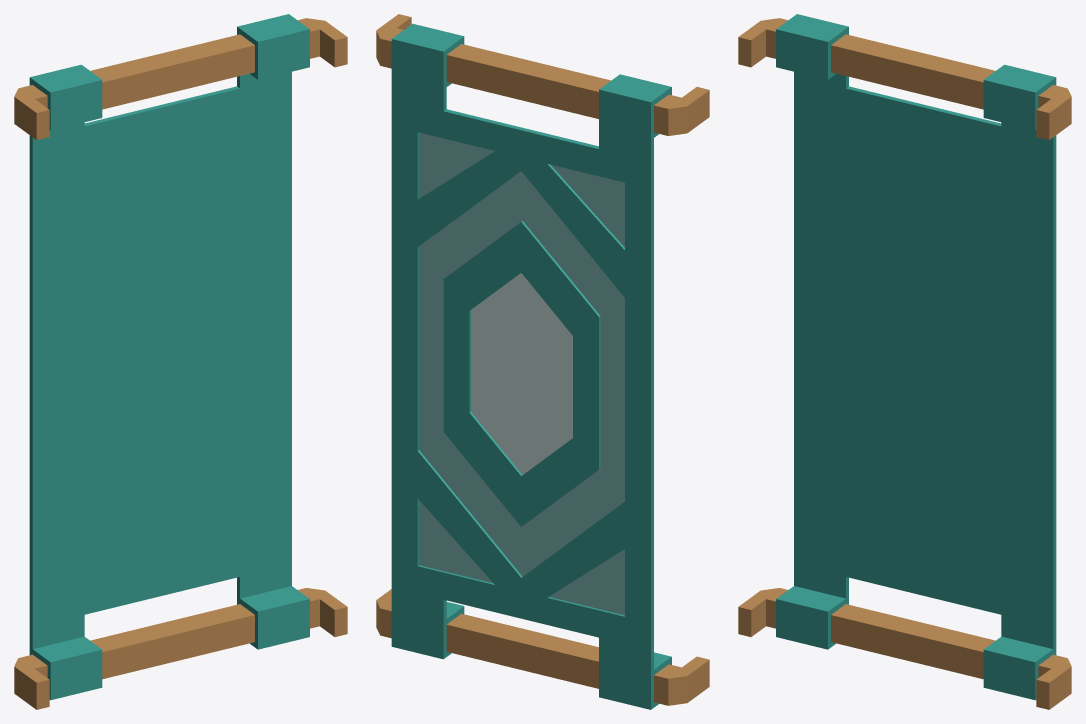
The model's file is Prop_Flag_2.fbx.
3 views of the same model, side by side, from view 1: azimuth 30°, elevation 25°; view 2: azimuth 150°, elevation 25°; view 3: azimuth 330°, elevation 25° (orthographic).
Parts seen in each view (by area): view 1: Blue_Fabric_1.Blue_Fabric_1.Blue_Fabric_1.Blue_Fabric_1.Blue, object1, object2; view 2: Blue_Fabric_1.Blue_Fabric_1.Blue_Fabric_1.Blue_Fabric_1.Blue, Blue_Fabric_2.Blue_Fabric_2.Blue_Fabric_2.Blue_Fabric_2.Blue, Blue_Fabric_3, object1, object2; view 3: Blue_Fabric_1.Blue_Fabric_1.Blue_Fabric_1.Blue_Fabric_1.Blue, object1, object2.
Part boxes in pixels (box(x1,y1,x2,y2)): Blue_Fabric_1.Blue_Fabric_1.Blue_Fabric_1.Blue_Fabric_1.Blue: box(29, 14, 309, 700); object1: box(14, 18, 347, 139); object2: box(14, 588, 347, 709); Blue_Fabric_1.Blue_Fabric_1.Blue_Fabric_1.Blue_Fabric_1.Blue: box(391, 23, 671, 709); Blue_Fabric_2.Blue_Fabric_2.Blue_Fabric_2.Blue_Fabric_2.Blue: box(419, 132, 624, 615); Blue_Fabric_3: box(471, 273, 572, 474); object1: box(376, 14, 709, 135); object2: box(376, 589, 709, 705); Blue_Fabric_1.Blue_Fabric_1.Blue_Fabric_1.Blue_Fabric_1.Blue: box(776, 14, 1056, 700); object1: box(738, 18, 1071, 139); object2: box(738, 588, 1071, 709).
Size of the model in its own units: 0.54 by 1.01 by 0.099.
